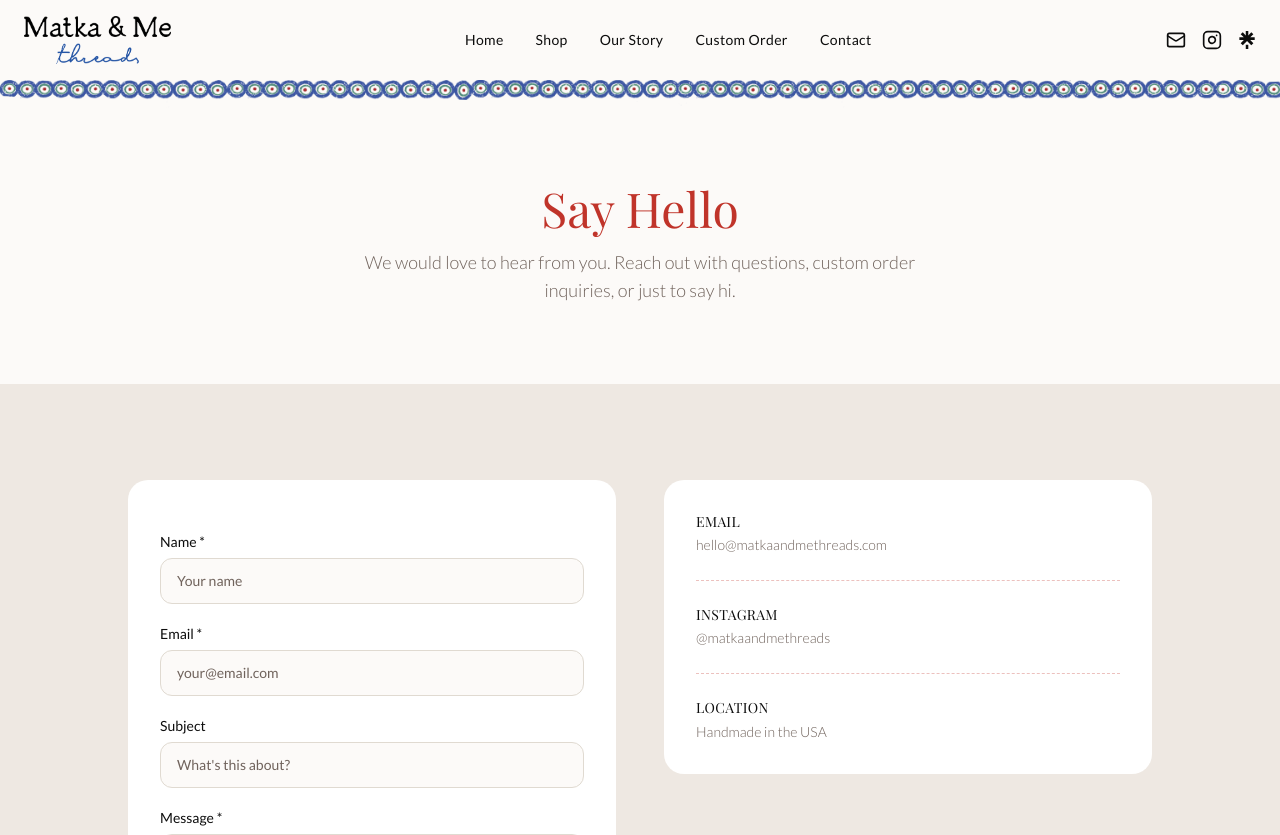
public site without Supabase › Contact form shows an error (not fake success) when sending fails
This screenshot has width=1280, height=835.
Type "Ann" into the field labelled "Name *" at {"x": 372, "y": 581}, box [160,558,584,604]
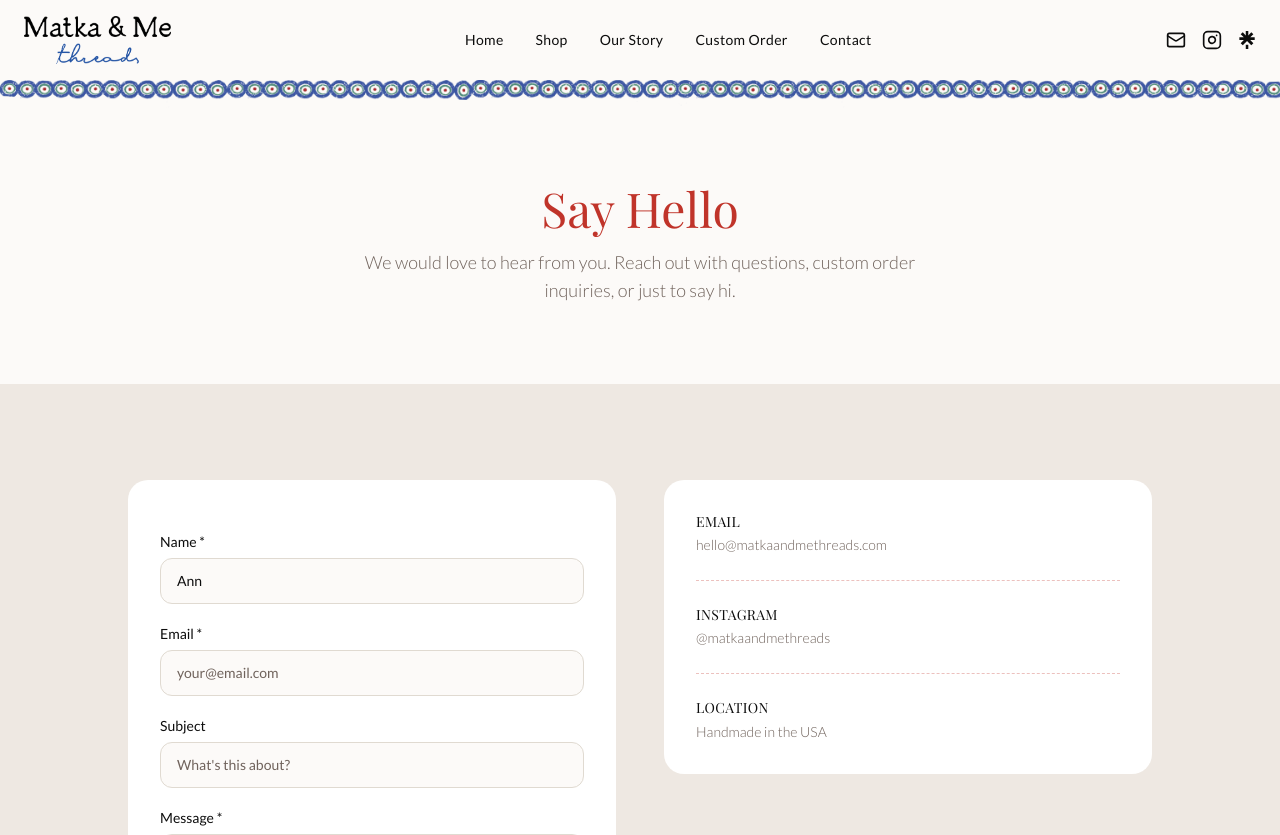
Type "ann@example.com" into the field labelled "Email *" at {"x": 372, "y": 673}, box [160,650,584,696]
(page scrolled)
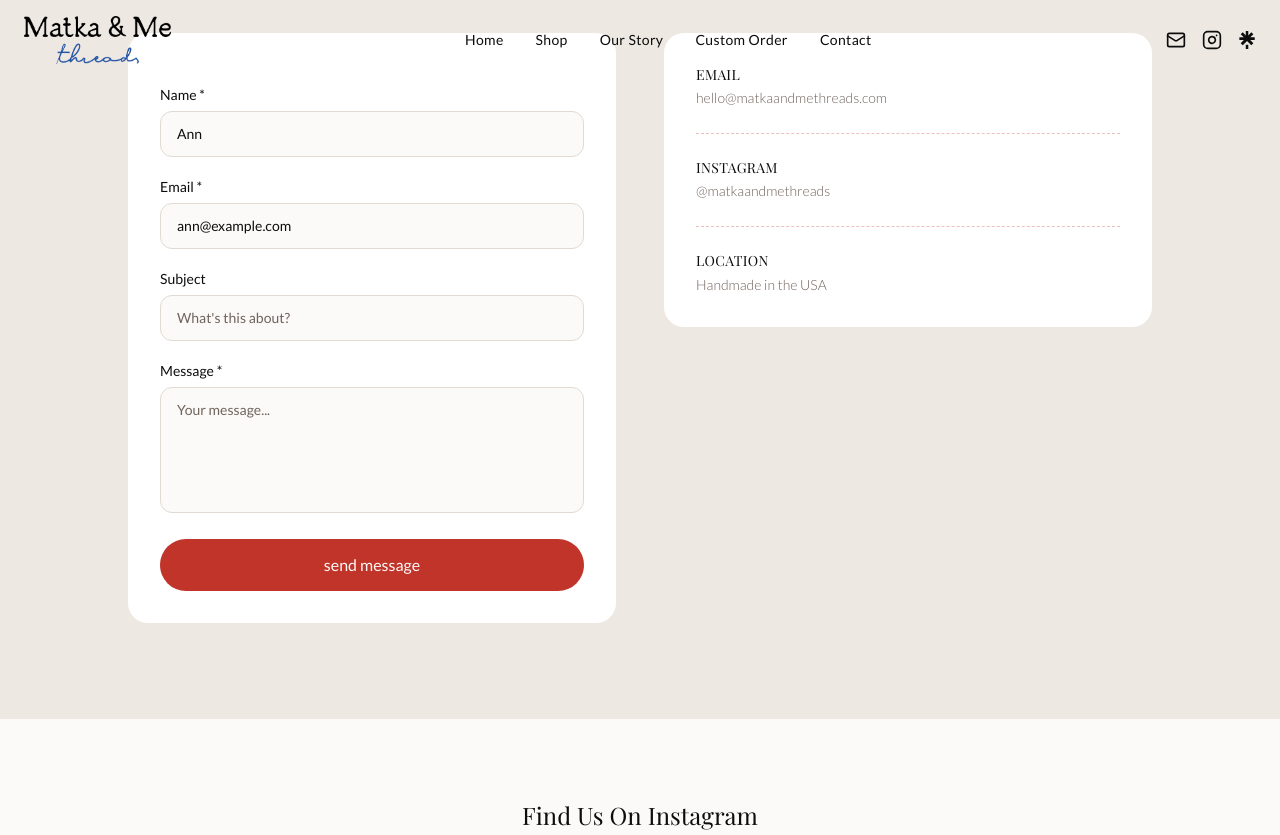
Type "Hello!" into the text box labelled "Message *" at {"x": 372, "y": 450}, box [160,387,584,513]
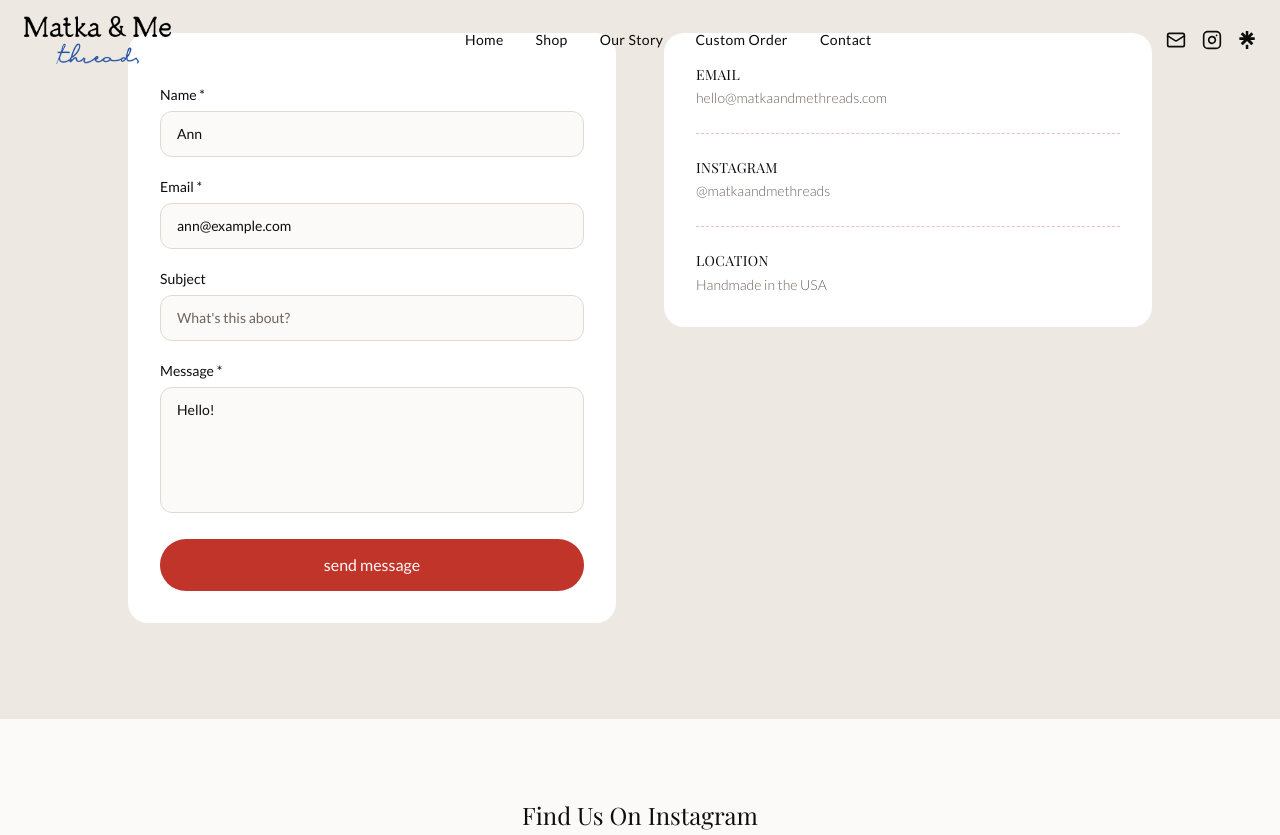
Click the button "send message" at {"x": 372, "y": 565}, box [160,539,584,591]
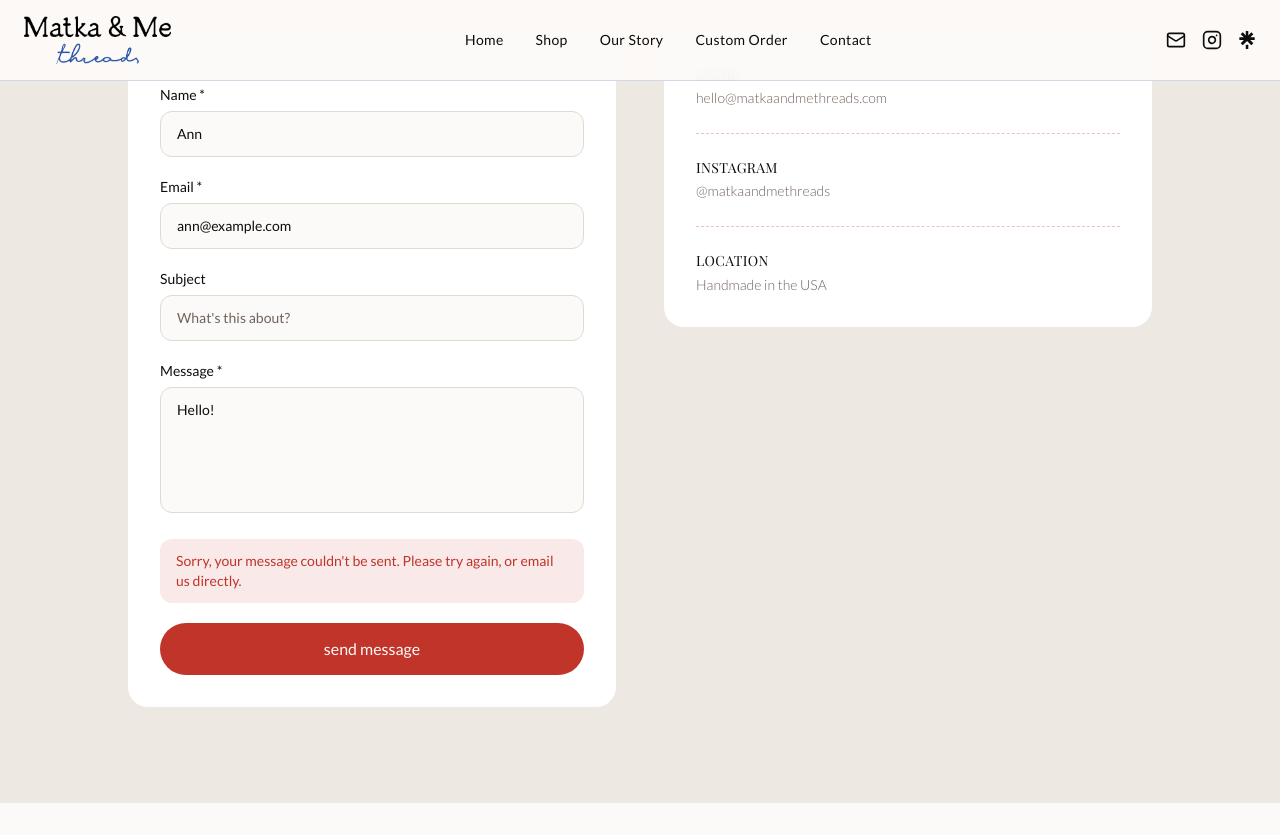
Now the message shows "couldn't be sent", box [176,552,554,589]
